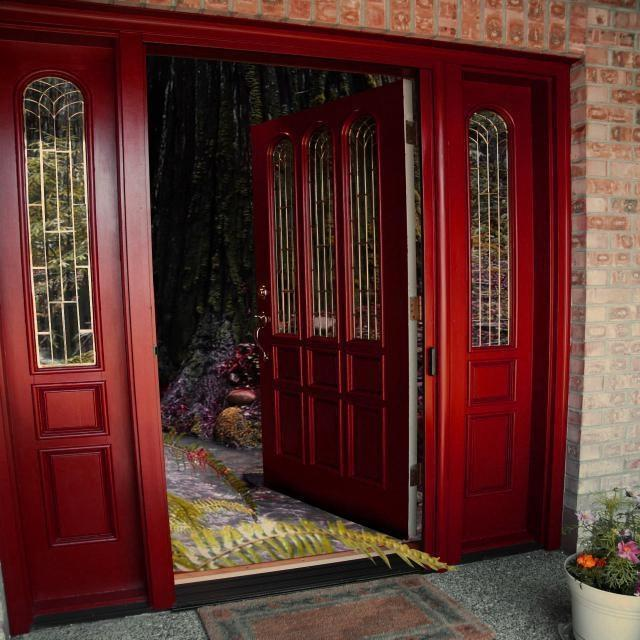door: (248, 78, 412, 540)
